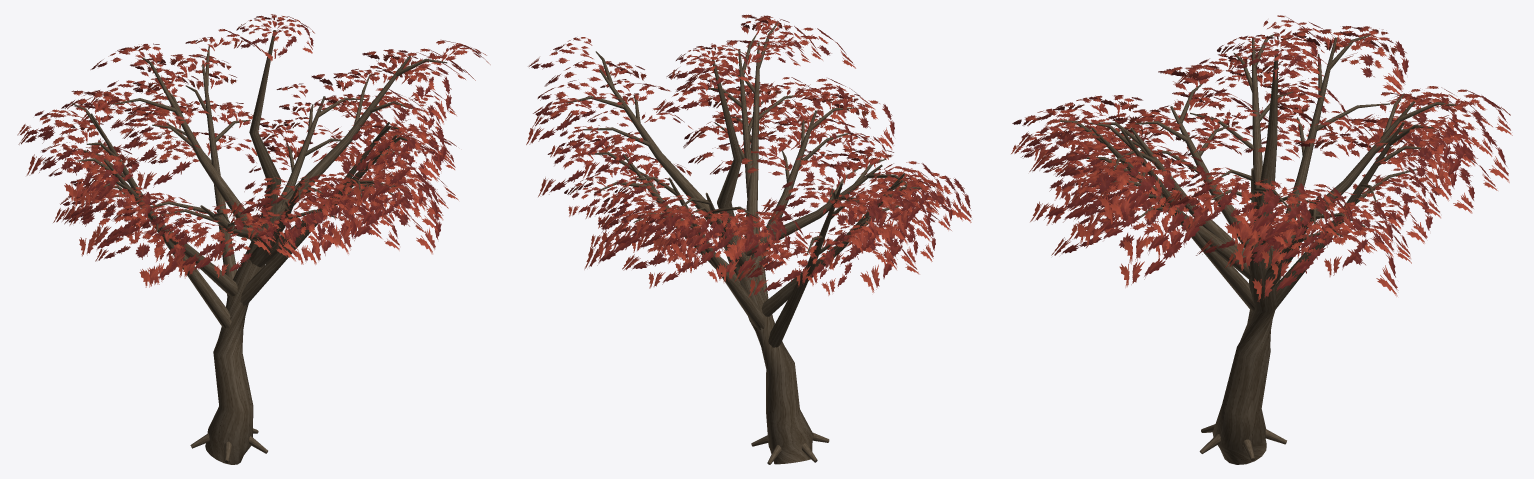
Rendered from japanese_maple_red.glb.
The picture shows the model from 3 angles, left to right: view 1: azimuth 30°, elevation 25°; view 2: azimuth 150°, elevation 25°; view 3: azimuth 270°, elevation 25°; orthographic projection. The views are drawn at different scales.
Visible parts, largest first — view 1: japanese_maple_red; view 2: japanese_maple_red; view 3: japanese_maple_red.
Part boxes in pixels (left/top/right/bottom): japanese_maple_red: left=17, top=14, right=490, bottom=464; japanese_maple_red: left=526, top=14, right=971, bottom=464; japanese_maple_red: left=1011, top=15, right=1512, bottom=464.
Bounding box in the file's own units: 6.8 × 6.2 × 6.4.
2 materials, 2 textured.
